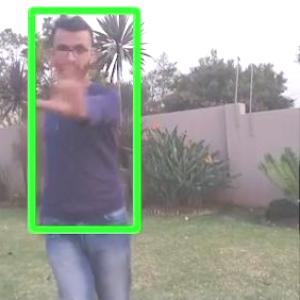follow_hand: (37, 34, 99, 122)
